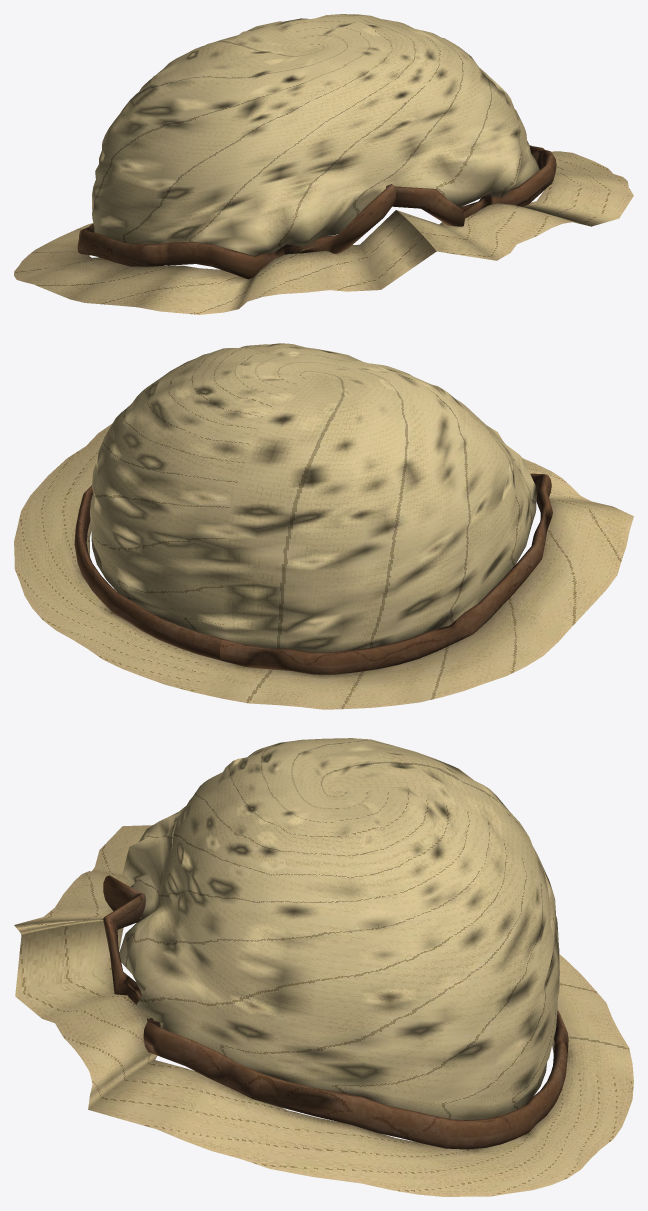
The model's file is explorer.glb.
3 views of the same model, one above another, from view 1: azimuth 30°, elevation 25°; view 2: azimuth 150°, elevation 25°; view 3: azimuth 270°, elevation 25° (orthographic). The views are drawn at different scales.
Parts seen in each view (by area): view 1: explorer_dome, explorer_brim, explorer_band; view 2: explorer_dome, explorer_brim, explorer_band; view 3: explorer_dome, explorer_brim, explorer_band.
Part boxes in pixels (<box>): explorer_dome: <box>92,14,539,255</box>; explorer_brim: <box>14,151,633,314</box>; explorer_band: <box>77,145,556,279</box>; explorer_dome: <box>90,343,536,652</box>; explorer_brim: <box>14,423,633,709</box>; explorer_band: <box>74,473,552,674</box>; explorer_dome: <box>119,738,559,1119</box>; explorer_brim: <box>14,825,633,1196</box>; explorer_band: <box>103,875,568,1149</box>.
Size of the model in its own units: 41.46 by 16.92 by 32.49.
1 material, 1 textured.
